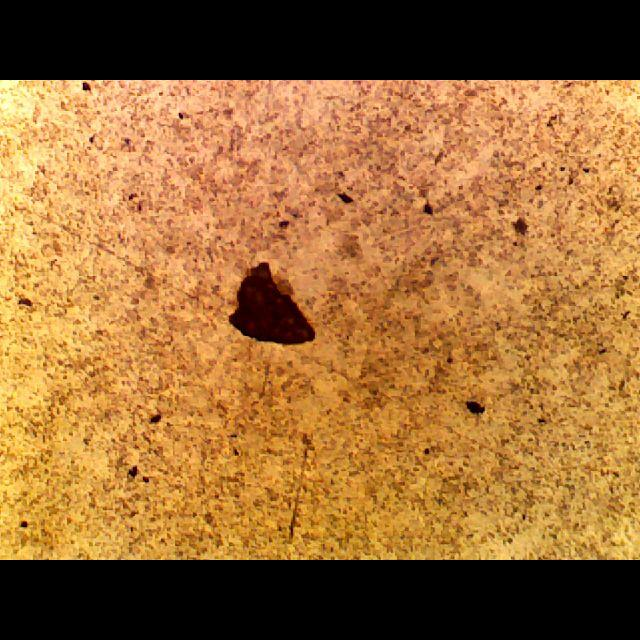Fragment: (220, 263, 322, 357)
